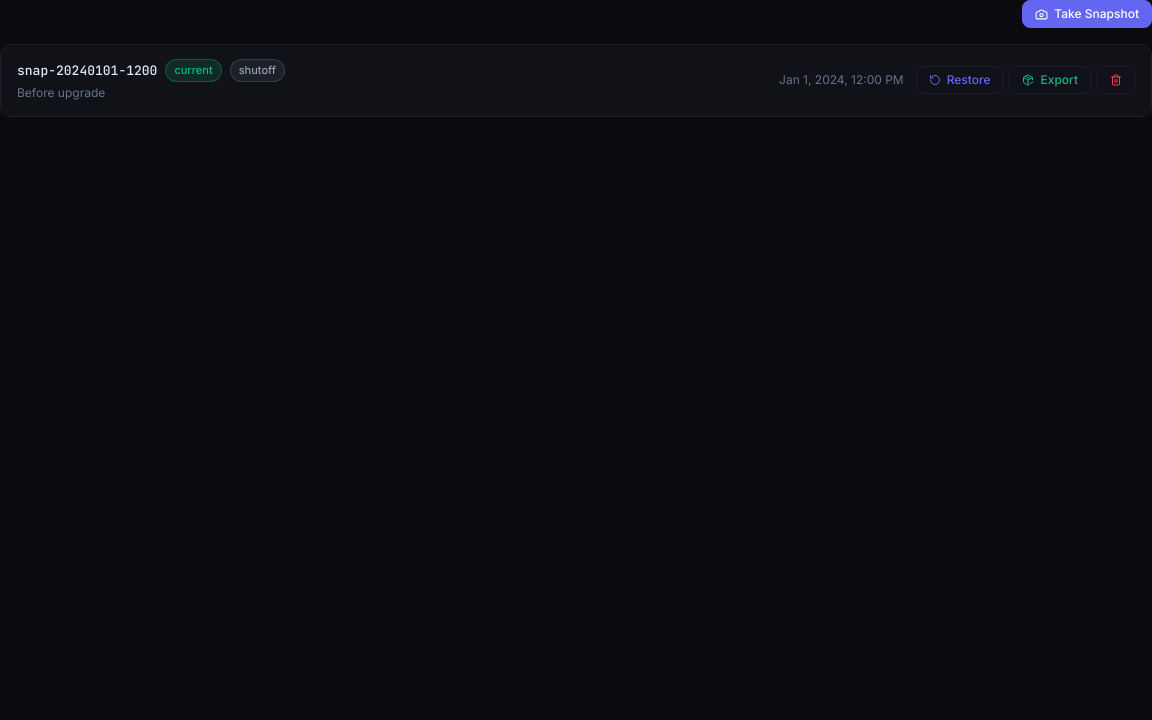
Test: SnapshotList — Export action › Export Template button is enabled for a valid name
Click the button "Export" at [1050, 80], box [1010,66,1091,94]
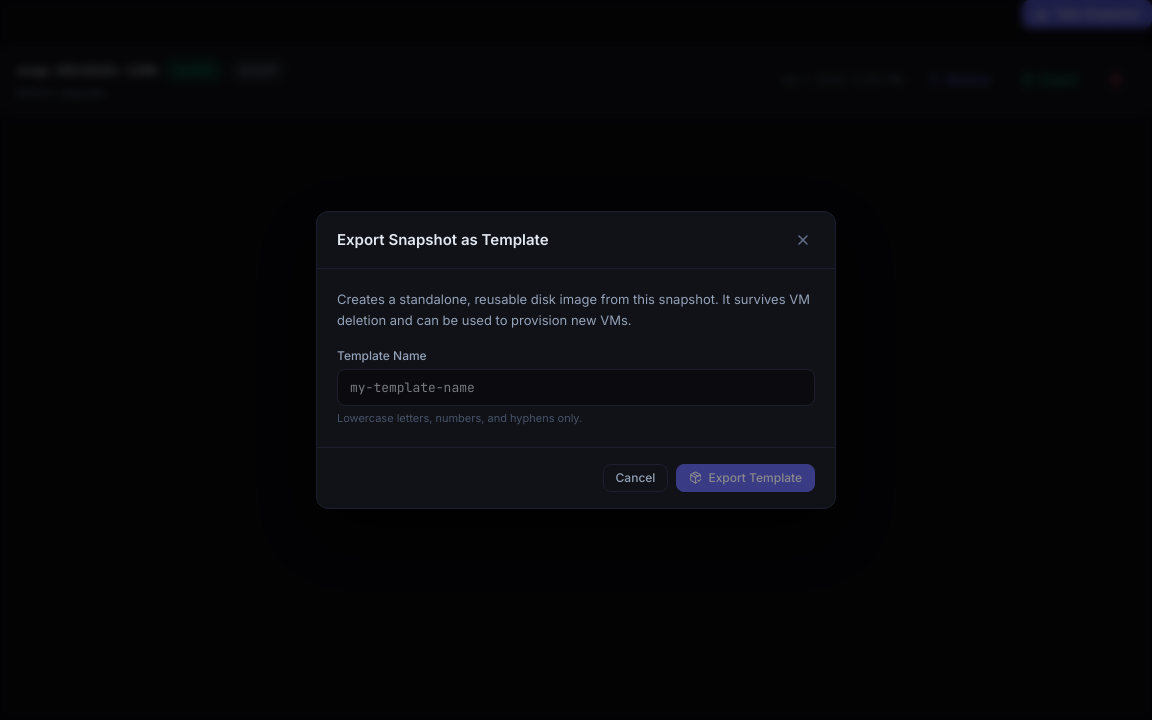
Now the heading "Export Snapshot as Template" is shown, box [337,229,549,252]
Type "my-valid-template" into the field with placeholder "my-template-name" at [576, 388], box [337,369,815,406]
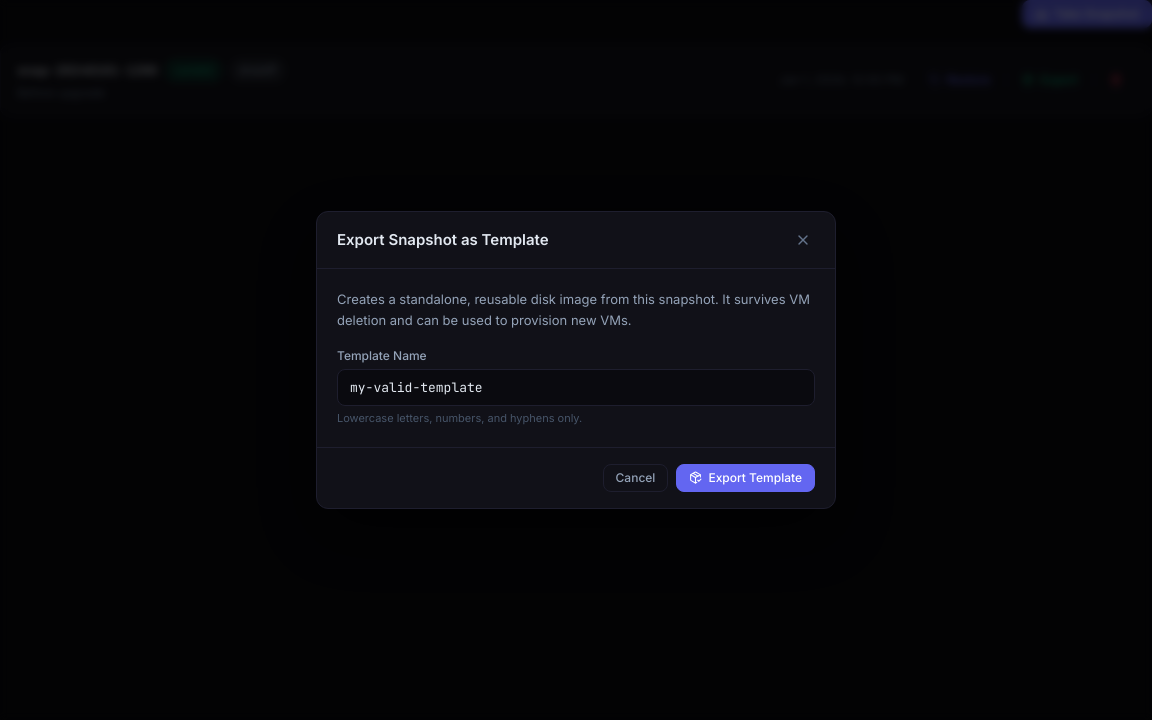
Now the button "Export Template" is enabled, box [676,464,815,492]
